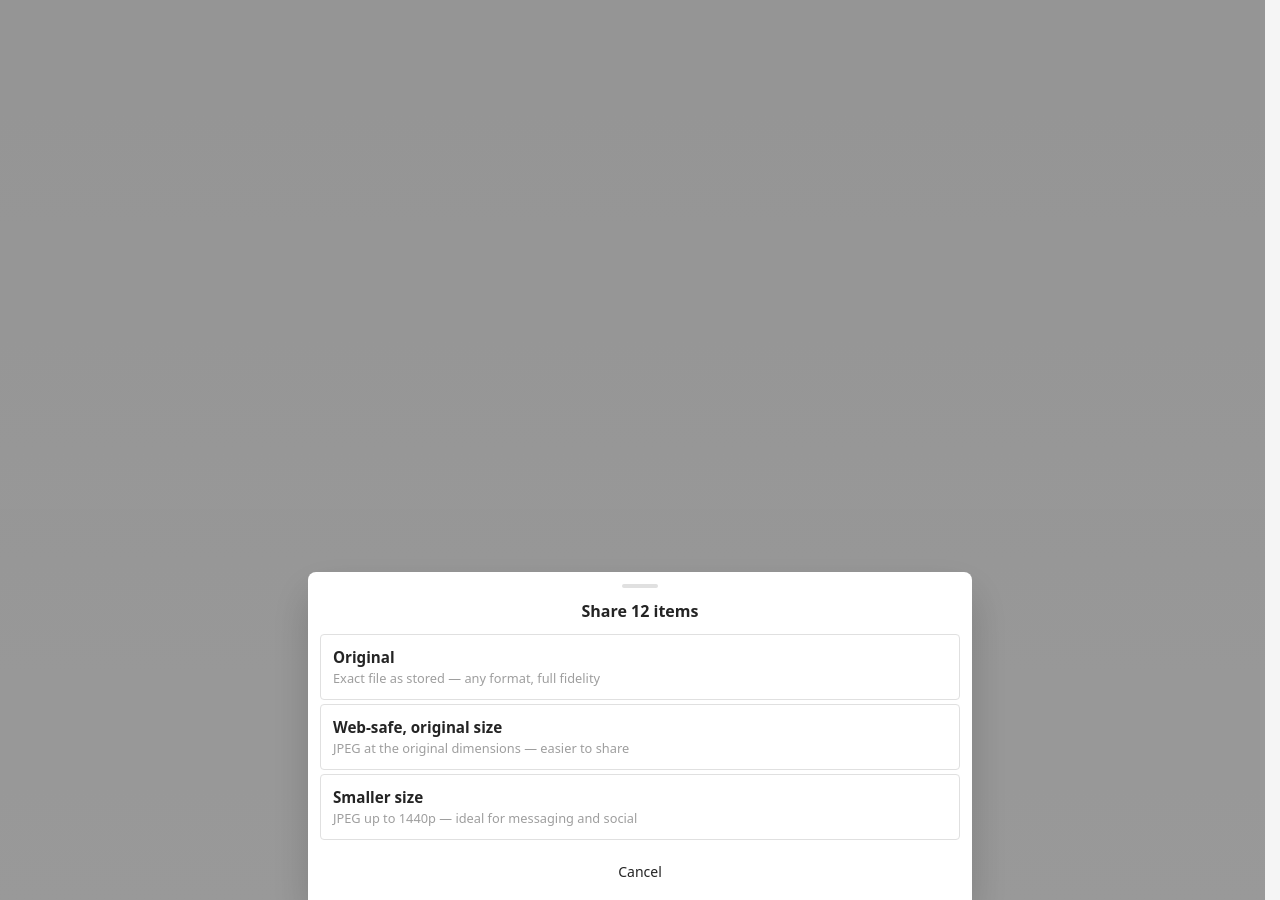
Test: ShareOptionsModal › over the share sheet's limit › offers a link instead of fetching more than 10 files
This screenshot has width=1280, height=900.
Click the button "Smaller size".
click(640, 807)  # box top-left (320, 774), bottom-right (960, 840)
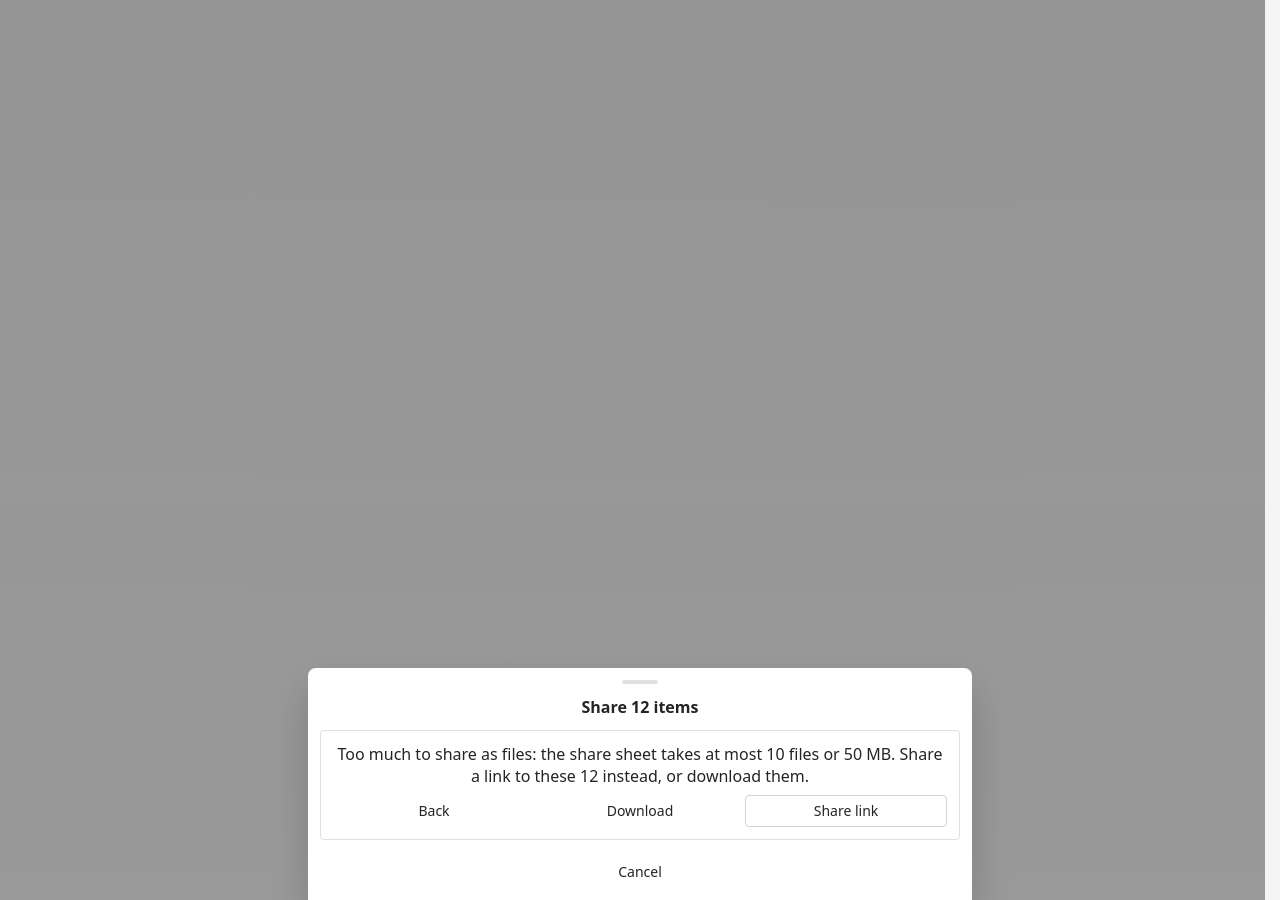
Expected: the text "at most 10 files or 50 MB" is shown, top-left (338, 743), bottom-right (942, 787)
Click the button "Share link".
click(846, 811)  # box top-left (745, 795), bottom-right (947, 827)
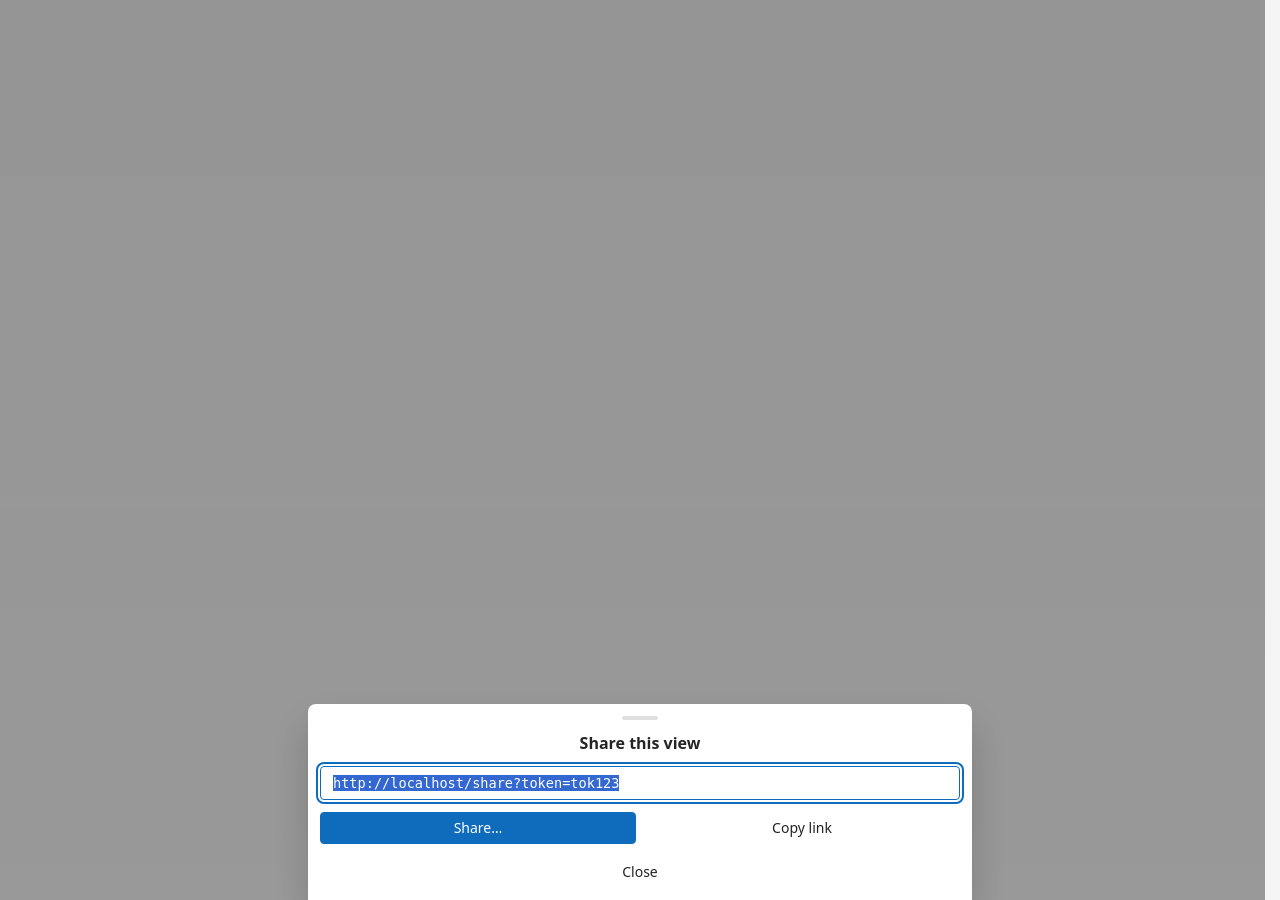
Expected: the field showing "tok123" is shown, top-left (320, 766), bottom-right (960, 800)
